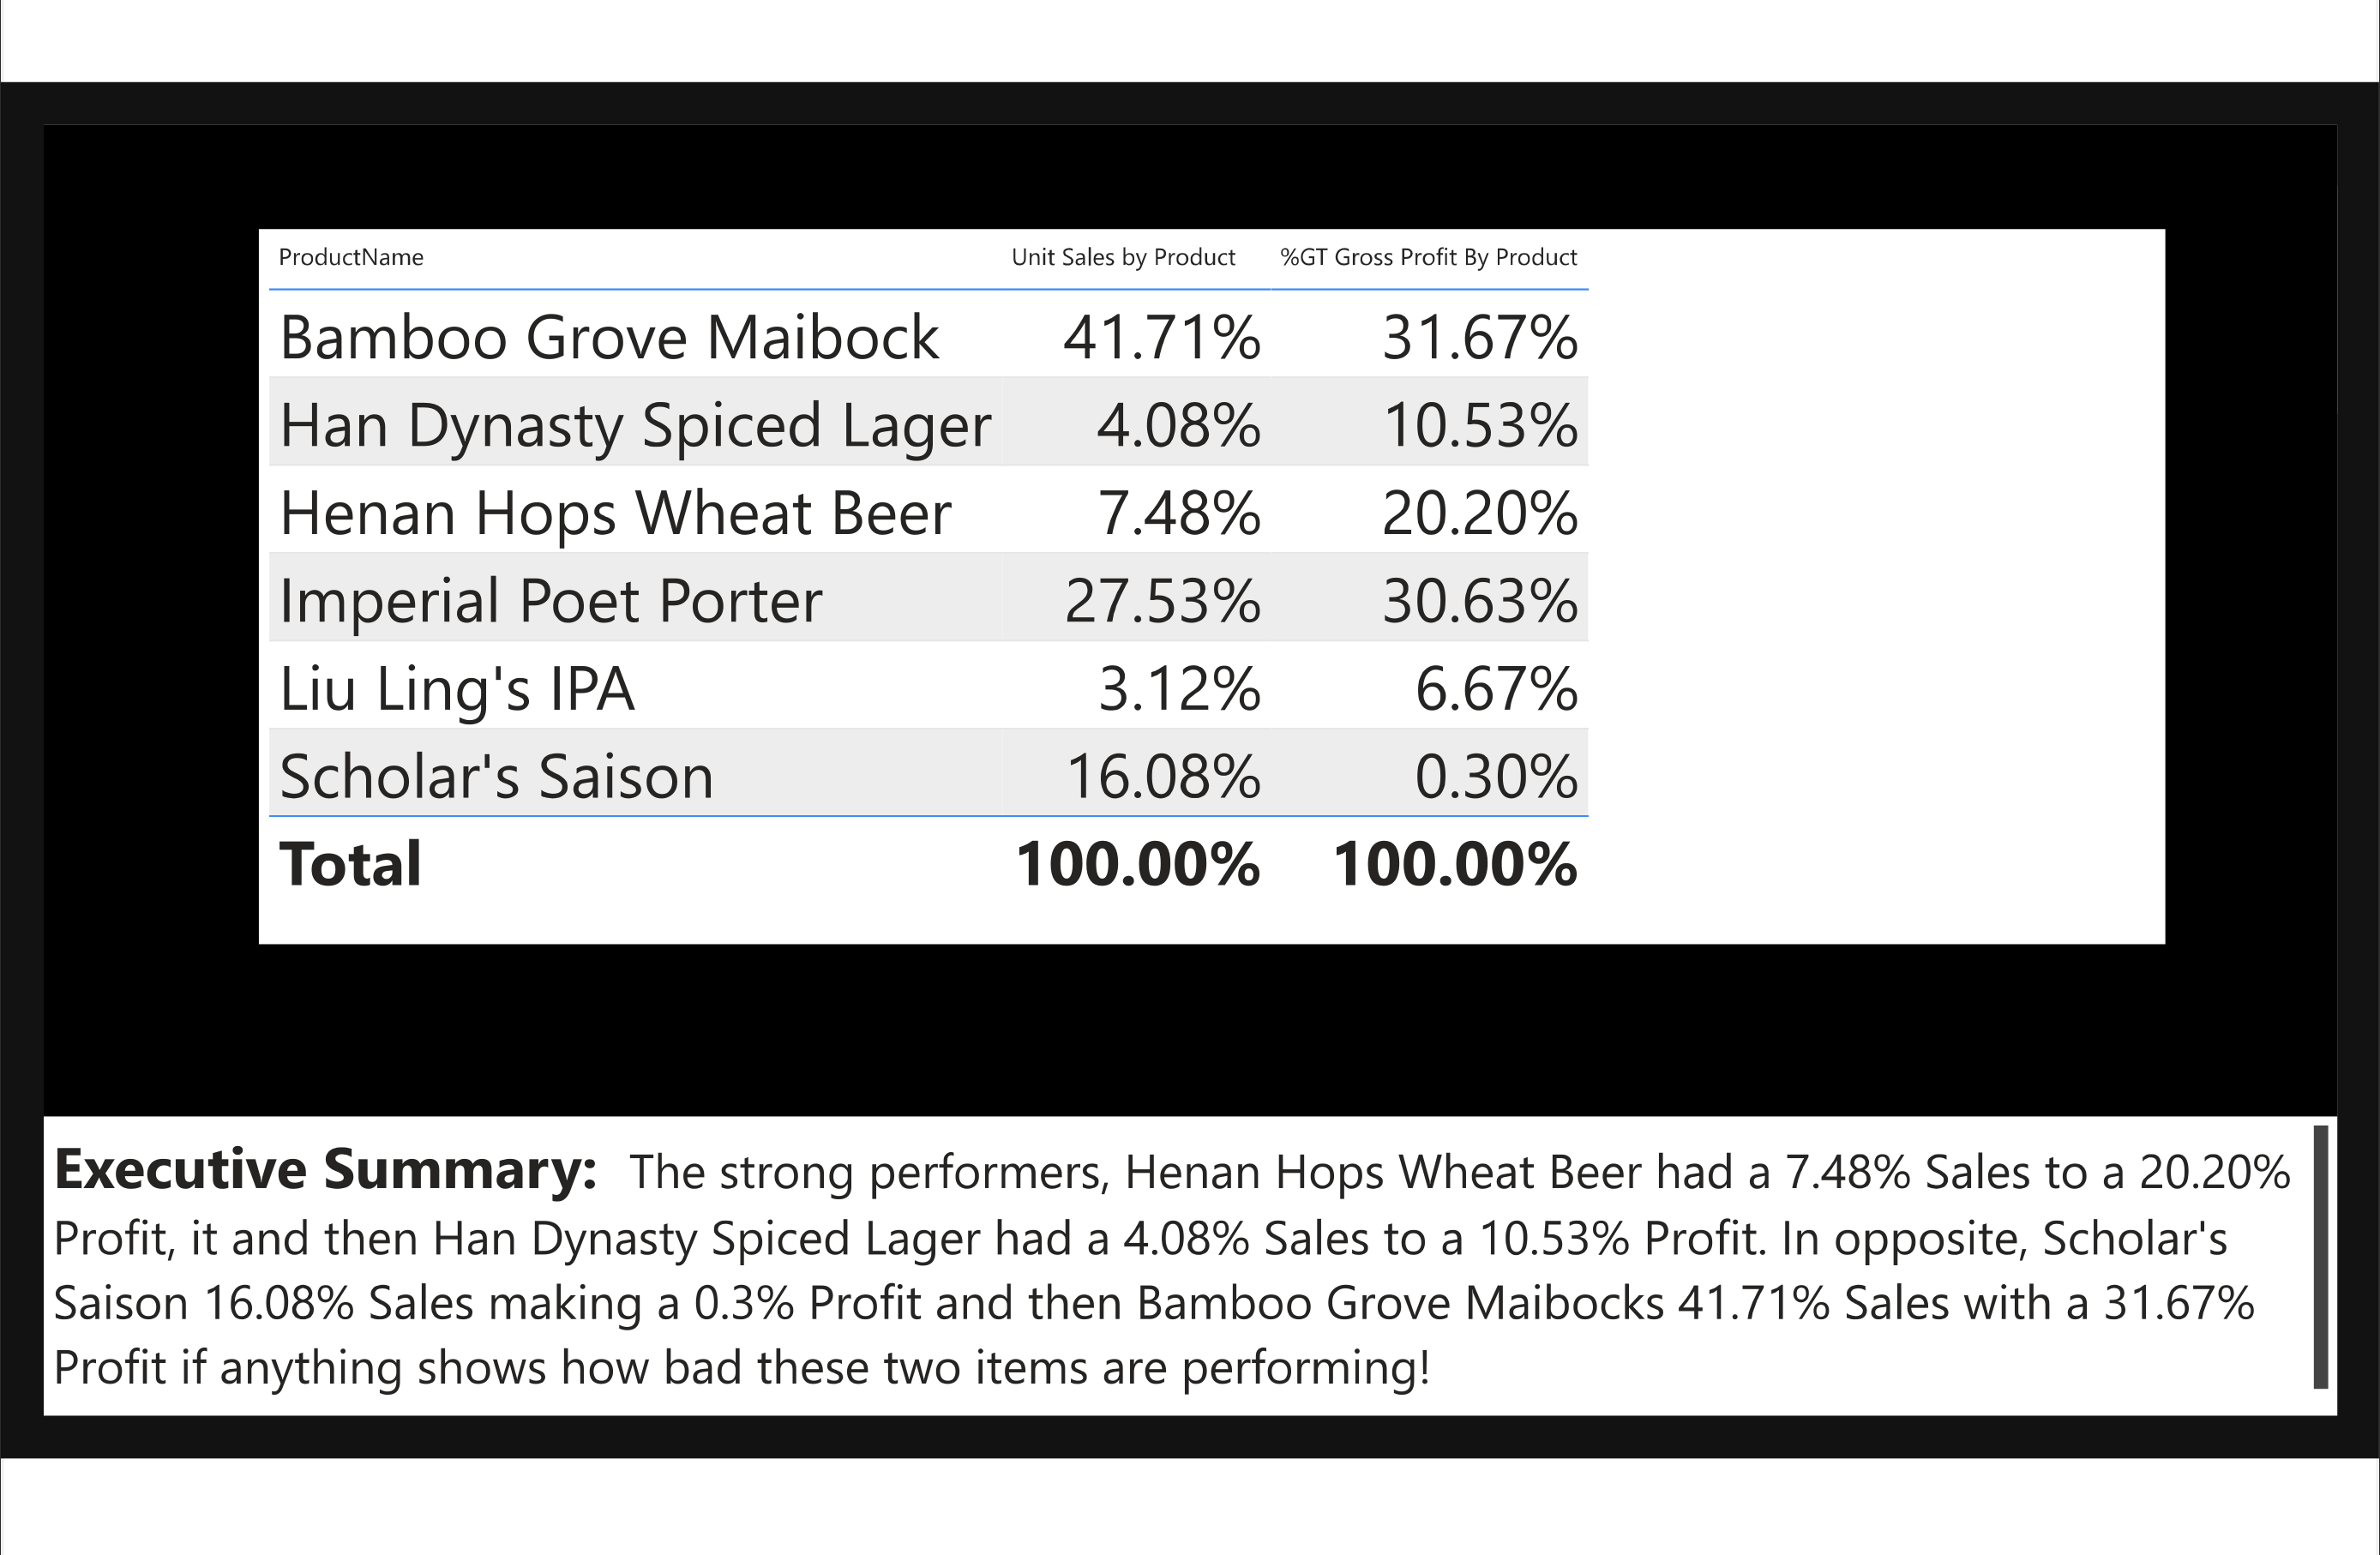

What the dashboard file says about the page in this screenshot:
{"tool":"powerbi","page":{"name":"Gross Profit and Unit Sales","canvas":[1280,720],"ordinal":1},"visuals":[{"type":"tableEx","fields":{"Values":["Product Offerings.ProductName","Monthly Sales Logs.Unit Sales by Product","Monthly Sales Logs.Gross Profit By Product"]},"box":[197.8,33.3,883.3,491.1],"z":0},{"type":"textbox","box":[0,553.3,1280,166.7],"z":1000}]}

Visuals, with their boxes on the page's 1280x720 design canvas (x1, y1, x2, y2). These are canvas units, not pixel positions in the 2380x1555 screenshot, which may show the page scaled, cropped or inside an application window:
tableEx - Product Offerings.ProductName x Monthly Sales Logs.Unit Sales by Product: (x1=198, y1=33, x2=1081, y2=524)
textbox: (x1=0, y1=553, x2=1280, y2=720)
